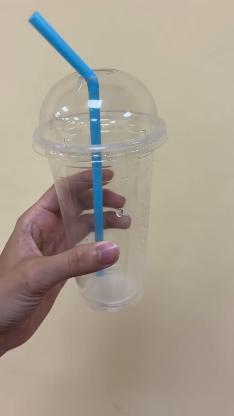Plastic Cup: (31, 66, 167, 310)
